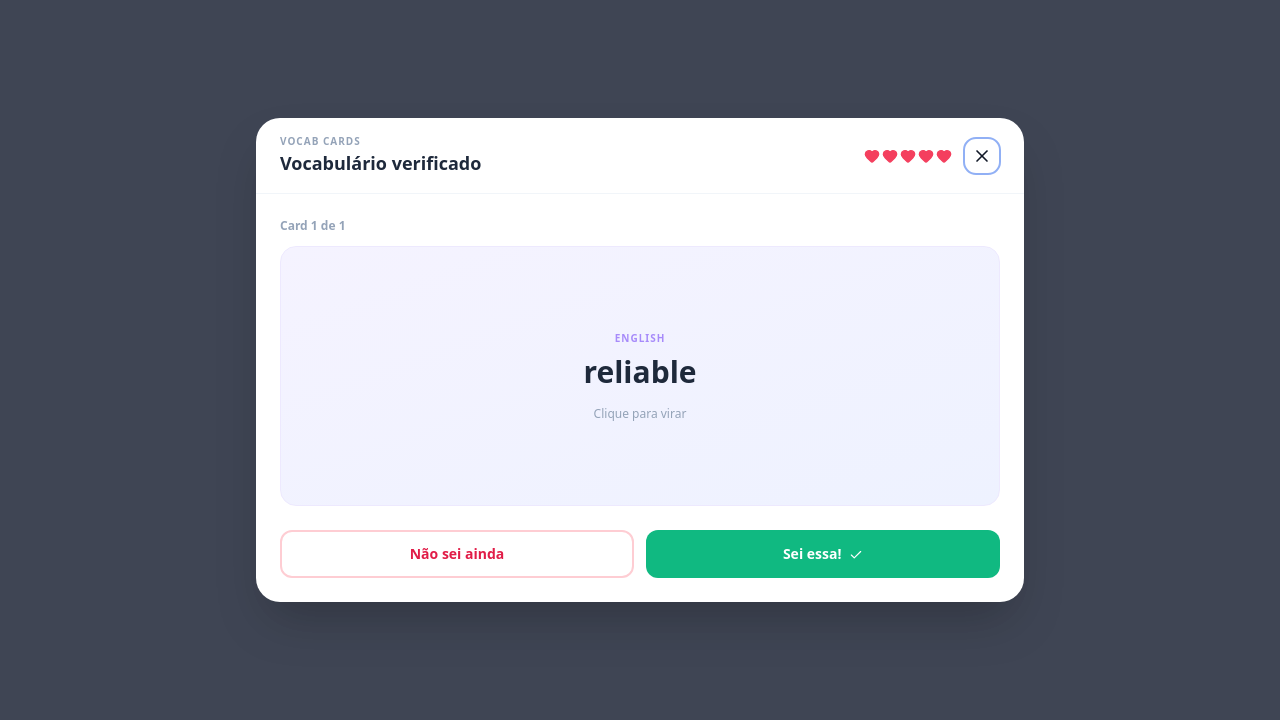
Test case: <ActivityPlayer /> — falhas e reprovação verificadas › também mantém uma prática não-quiz abaixo de 60 aberta para nova tentativa
Click the button "Não sei ainda" at (457, 554), box left=280, top=530, right=634, bottom=578
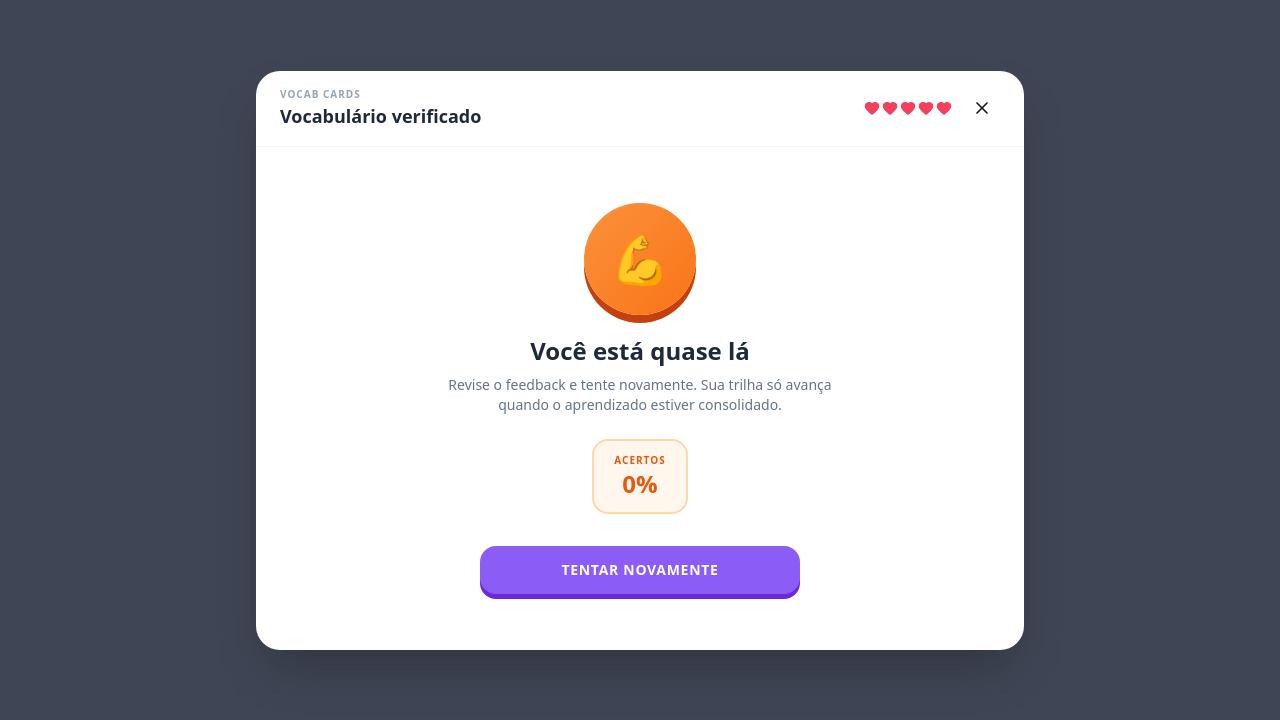
expect the button "Tentar novamente" is shown: met, box left=480, top=546, right=800, bottom=594
expect the text "0%" is shown: met, box left=622, top=466, right=658, bottom=500
